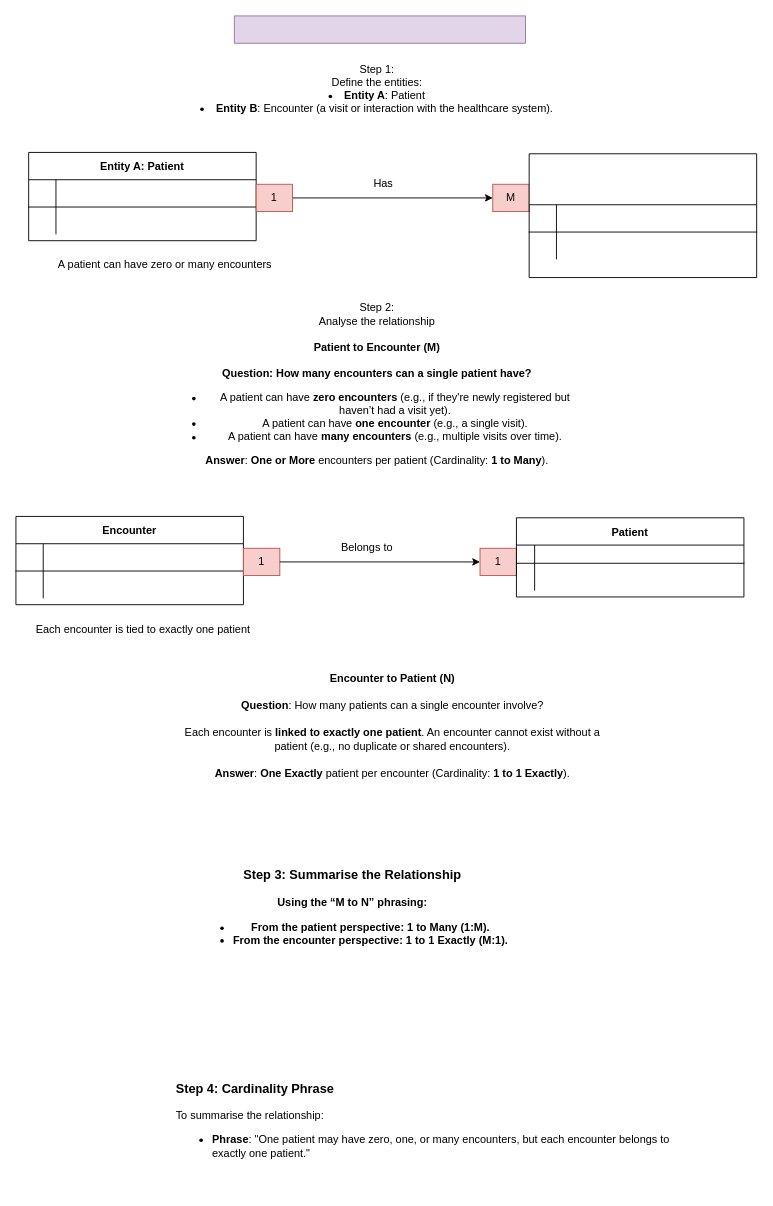
Image size: 773x1206. Some labels were removed from this diagram. The shapes that lost their labels are listed below. From the top down, each one's box as (x1, y1, x2, y2) in pixels, then its label:
(233, 15, 526, 43): PATIENT TO ENCOUNTER
(528, 153, 757, 278): Entity B: Encounter (a visit or interaction with the healthcare system)
